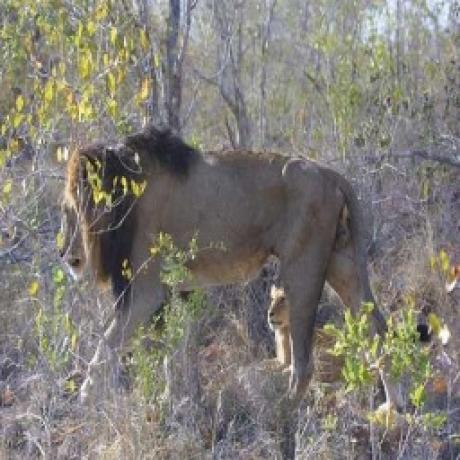Lion: (56, 127, 388, 402)
